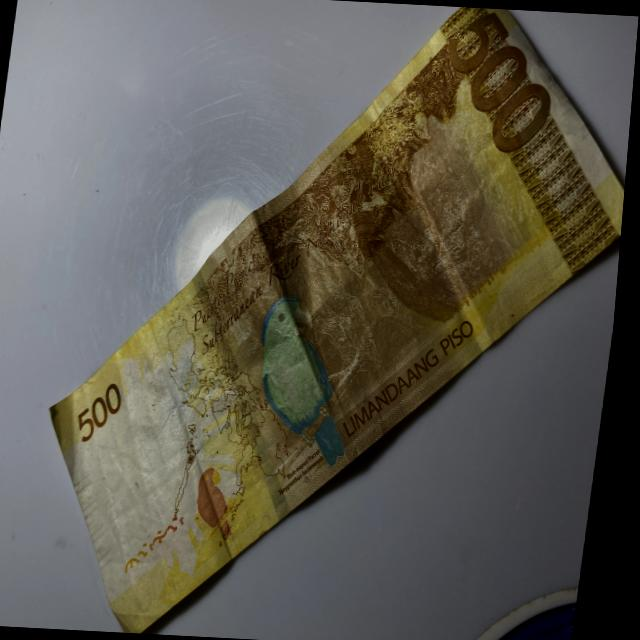500_big_parrot: (251, 289, 365, 462)
500_parrot_watermark: (196, 462, 252, 544)
value_watermark: (108, 494, 134, 536)
watermark: (93, 366, 202, 548)
